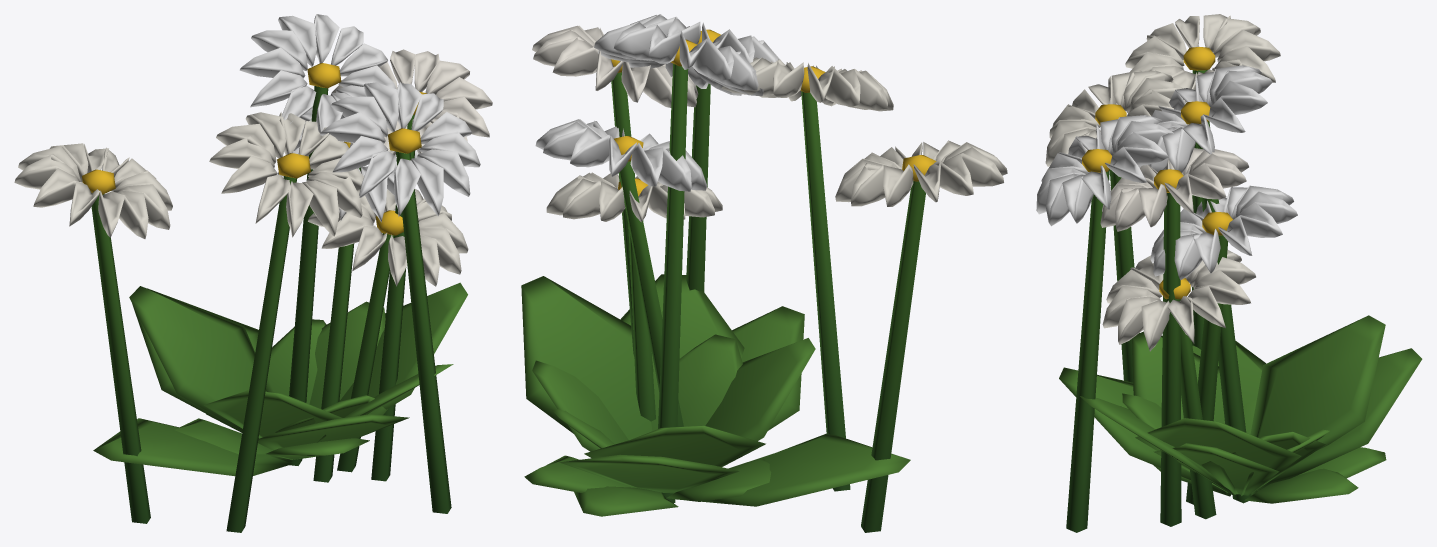
The model's file is flowers_daisy.glb.
3 views of the same model, side by side, from view 1: azimuth 30°, elevation 25°; view 2: azimuth 150°, elevation 25°; view 3: azimuth 270°, elevation 25° (orthographic). The views are drawn at different scales.
Parts seen in each view (by area): view 1: flowers_daisy; view 2: flowers_daisy; view 3: flowers_daisy.
Boxes of the visible parts, bbox=[...] form: flowers_daisy: bbox=[14, 14, 492, 532]; flowers_daisy: bbox=[521, 14, 1007, 532]; flowers_daisy: bbox=[1036, 14, 1422, 532].
Size of the model in its own units: 0.5024 by 0.4792 by 0.3941.
